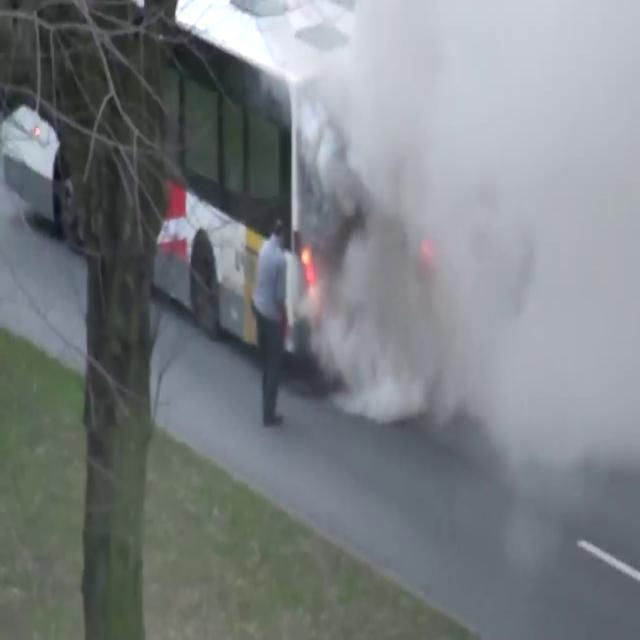Smoke: (312, 0, 640, 510)
